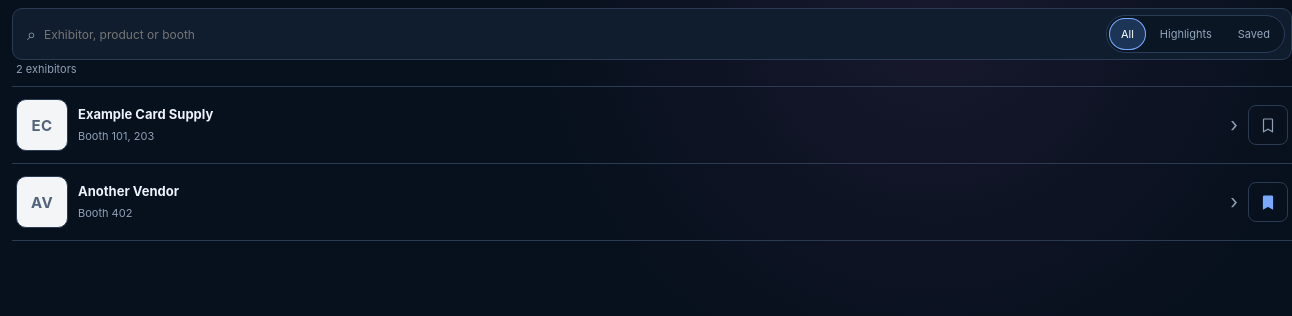
Exhibitor directory › reports a failed save without inventing a saved state
Click the button named "Save Example Card Supply".
click(1268, 125)  # box x1=1248 y1=105 x2=1288 y2=145
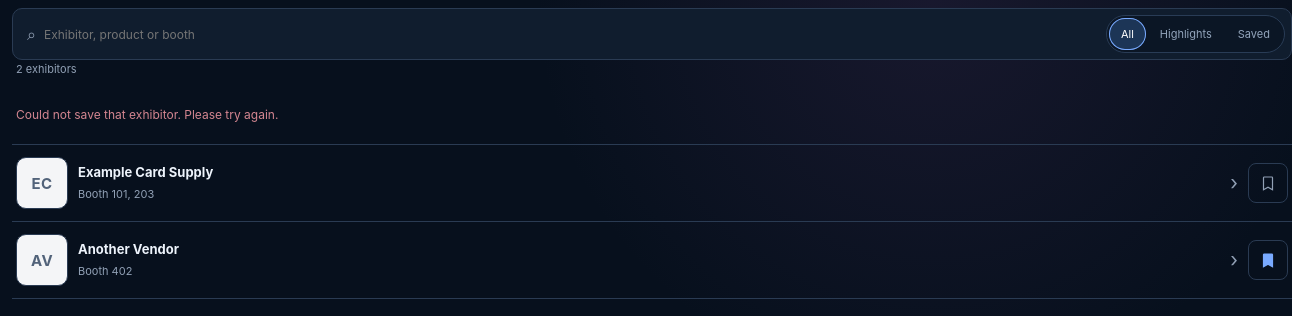
Result: the message shows "Could not save" at x1=16 y1=107 x2=278 y2=122
